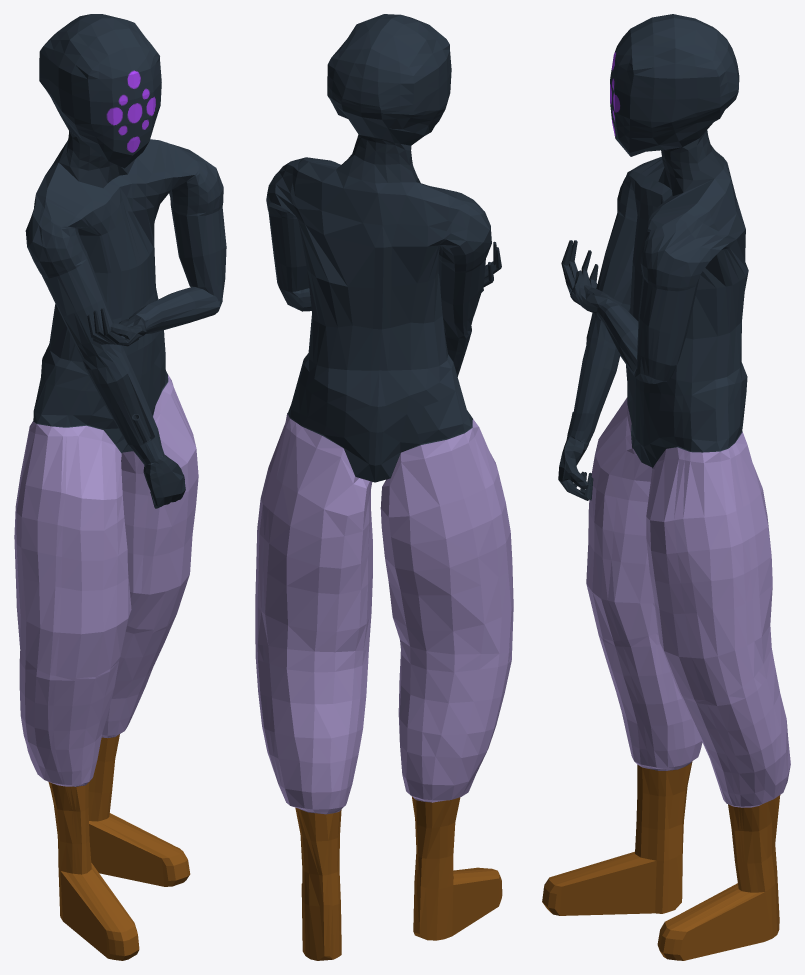
File: Oracle_Reload_000016.obj
The picture shows the model from 3 angles, left to right: view 1: azimuth 30°, elevation 25°; view 2: azimuth 150°, elevation 25°; view 3: azimuth 270°, elevation 25°; orthographic projection. The views are drawn at different scales.
Visible parts, largest first — view 1: Cube; view 2: Cube; view 3: Cube.
Part boxes in pixels (left/top/right/bottom): Cube: left=14, top=14, right=226, bottom=960; Cube: left=255, top=14, right=513, bottom=960; Cube: left=542, top=14, right=790, bottom=960.
Size of the model in its own units: 0.9803 by 3.94 by 0.9762.
